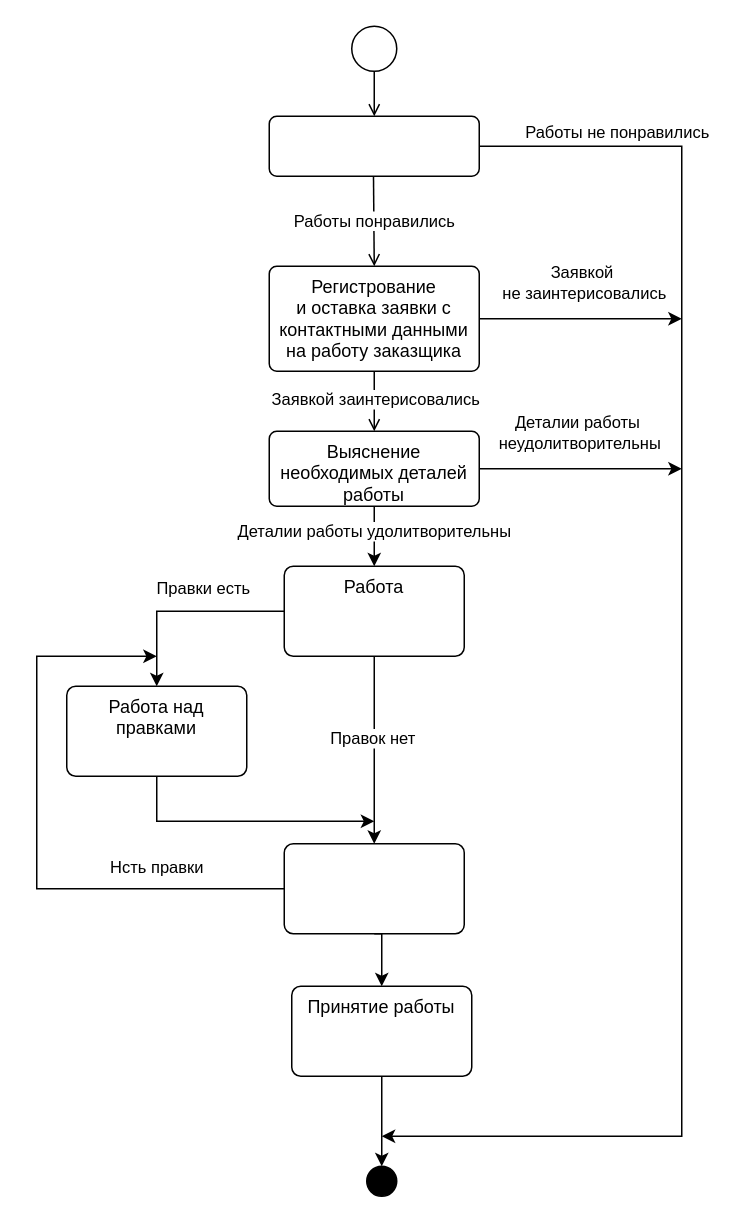
Some shapes in this 735 by 1223 pixel diagram are drawn without their labels. Each missing label, with the centre of its shape:
Демонстрация работы заказщику: [373,888]
Просмотривание работ заказщиком: [373,145]
